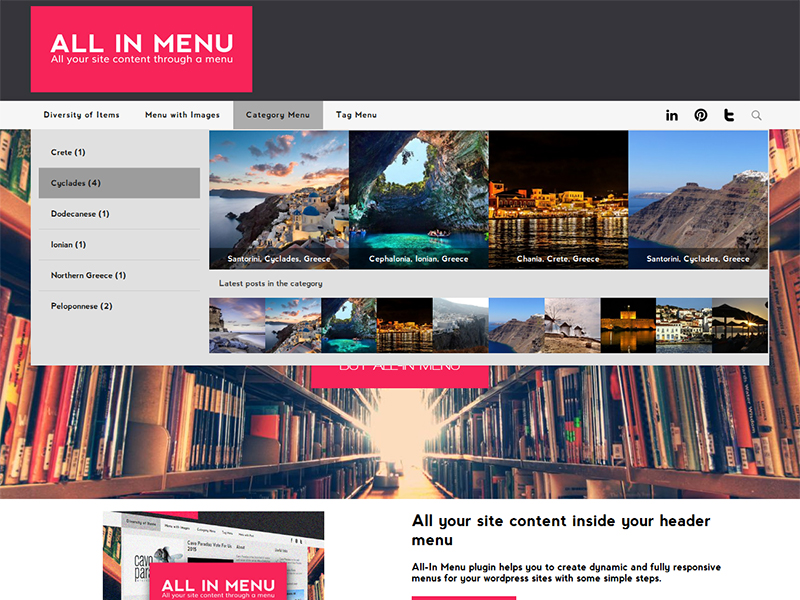menu-bar: (8, 7, 780, 368)
